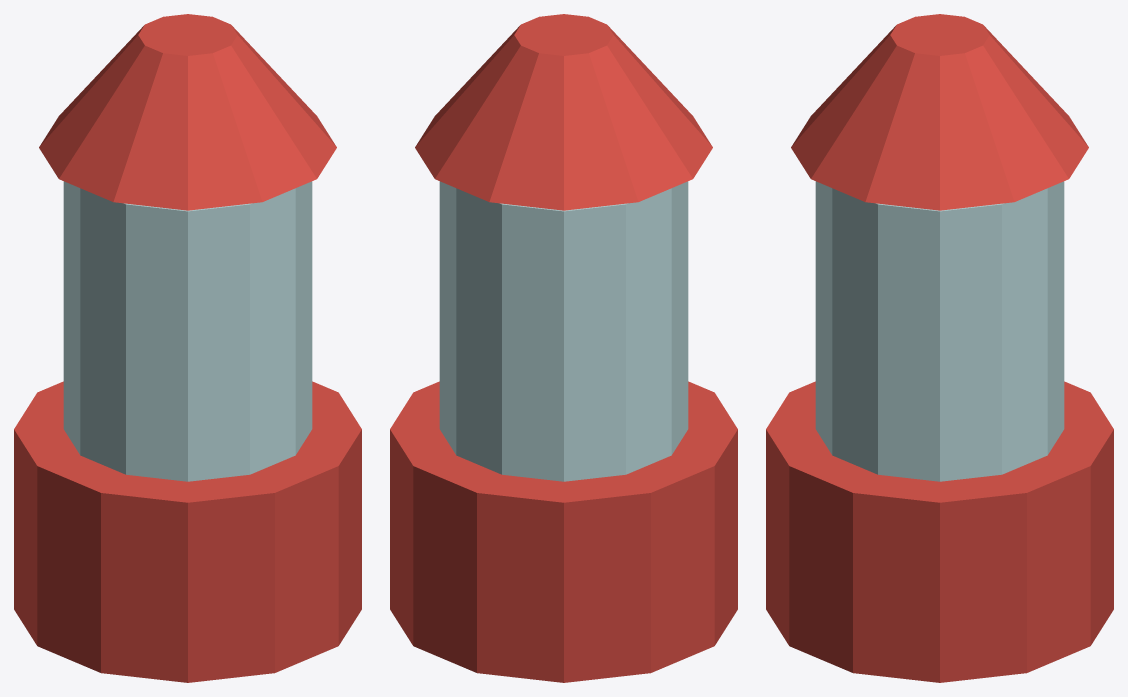
The model's file is sm_product_kerosene_lantern.glb.
The picture shows the model from 3 angles, left to right: view 1: azimuth 30°, elevation 25°; view 2: azimuth 150°, elevation 25°; view 3: azimuth 270°, elevation 25°; orthographic projection.
Visible parts, largest first — view 1: kerosene_lantern_0, kerosene_lantern_1, kerosene_lantern_2; view 2: kerosene_lantern_0, kerosene_lantern_1, kerosene_lantern_2; view 3: kerosene_lantern_0, kerosene_lantern_1, kerosene_lantern_2.
Boxes of the visible parts, <box> form: kerosene_lantern_0: <box>14,381,361,682</box>; kerosene_lantern_1: <box>63,181,312,481</box>; kerosene_lantern_2: <box>39,14,336,210</box>; kerosene_lantern_0: <box>390,381,737,682</box>; kerosene_lantern_1: <box>439,181,688,481</box>; kerosene_lantern_2: <box>415,14,712,210</box>; kerosene_lantern_0: <box>766,381,1113,682</box>; kerosene_lantern_1: <box>815,181,1064,481</box>; kerosene_lantern_2: <box>791,14,1088,210</box>.
Size of what is drawn, in the model's own units: 0.14 by 0.255 by 0.14.
